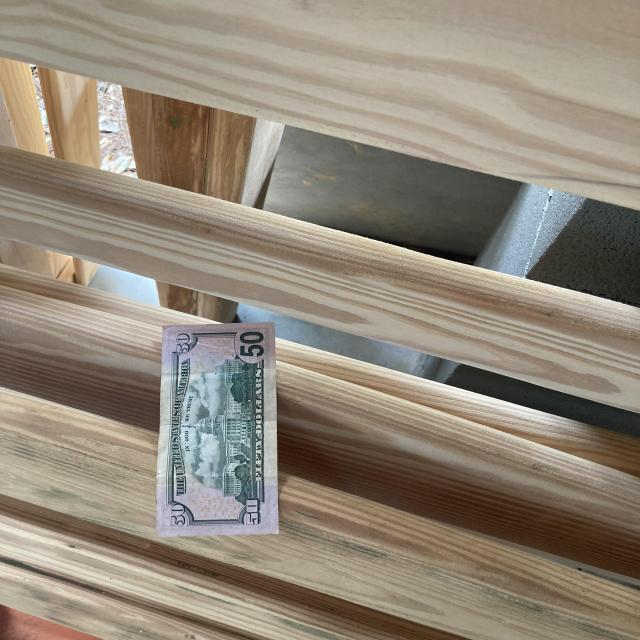fifty: (156, 322, 282, 535)
